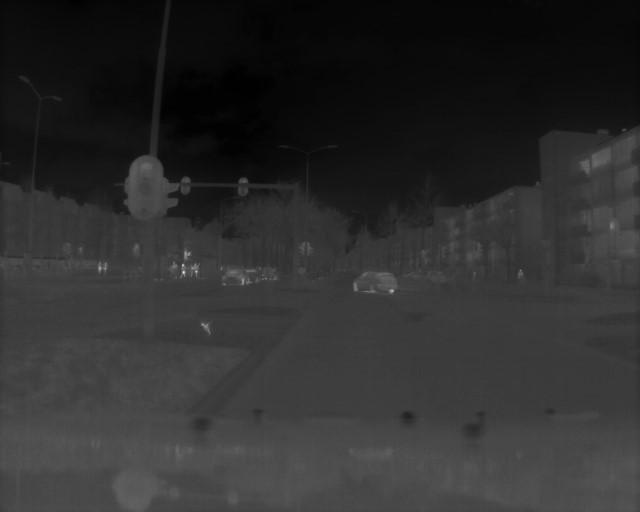car: (352, 268, 397, 296), (218, 268, 250, 287)
